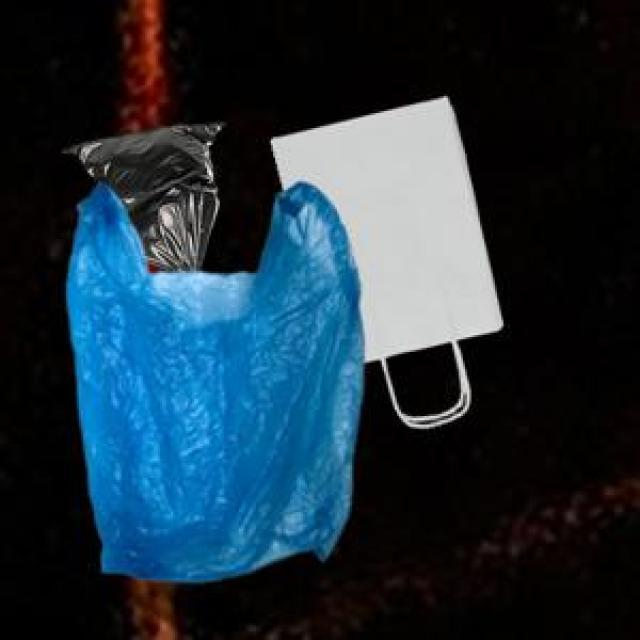miscellaneous trash: (60, 120, 219, 269)
paper: (267, 92, 499, 422)
